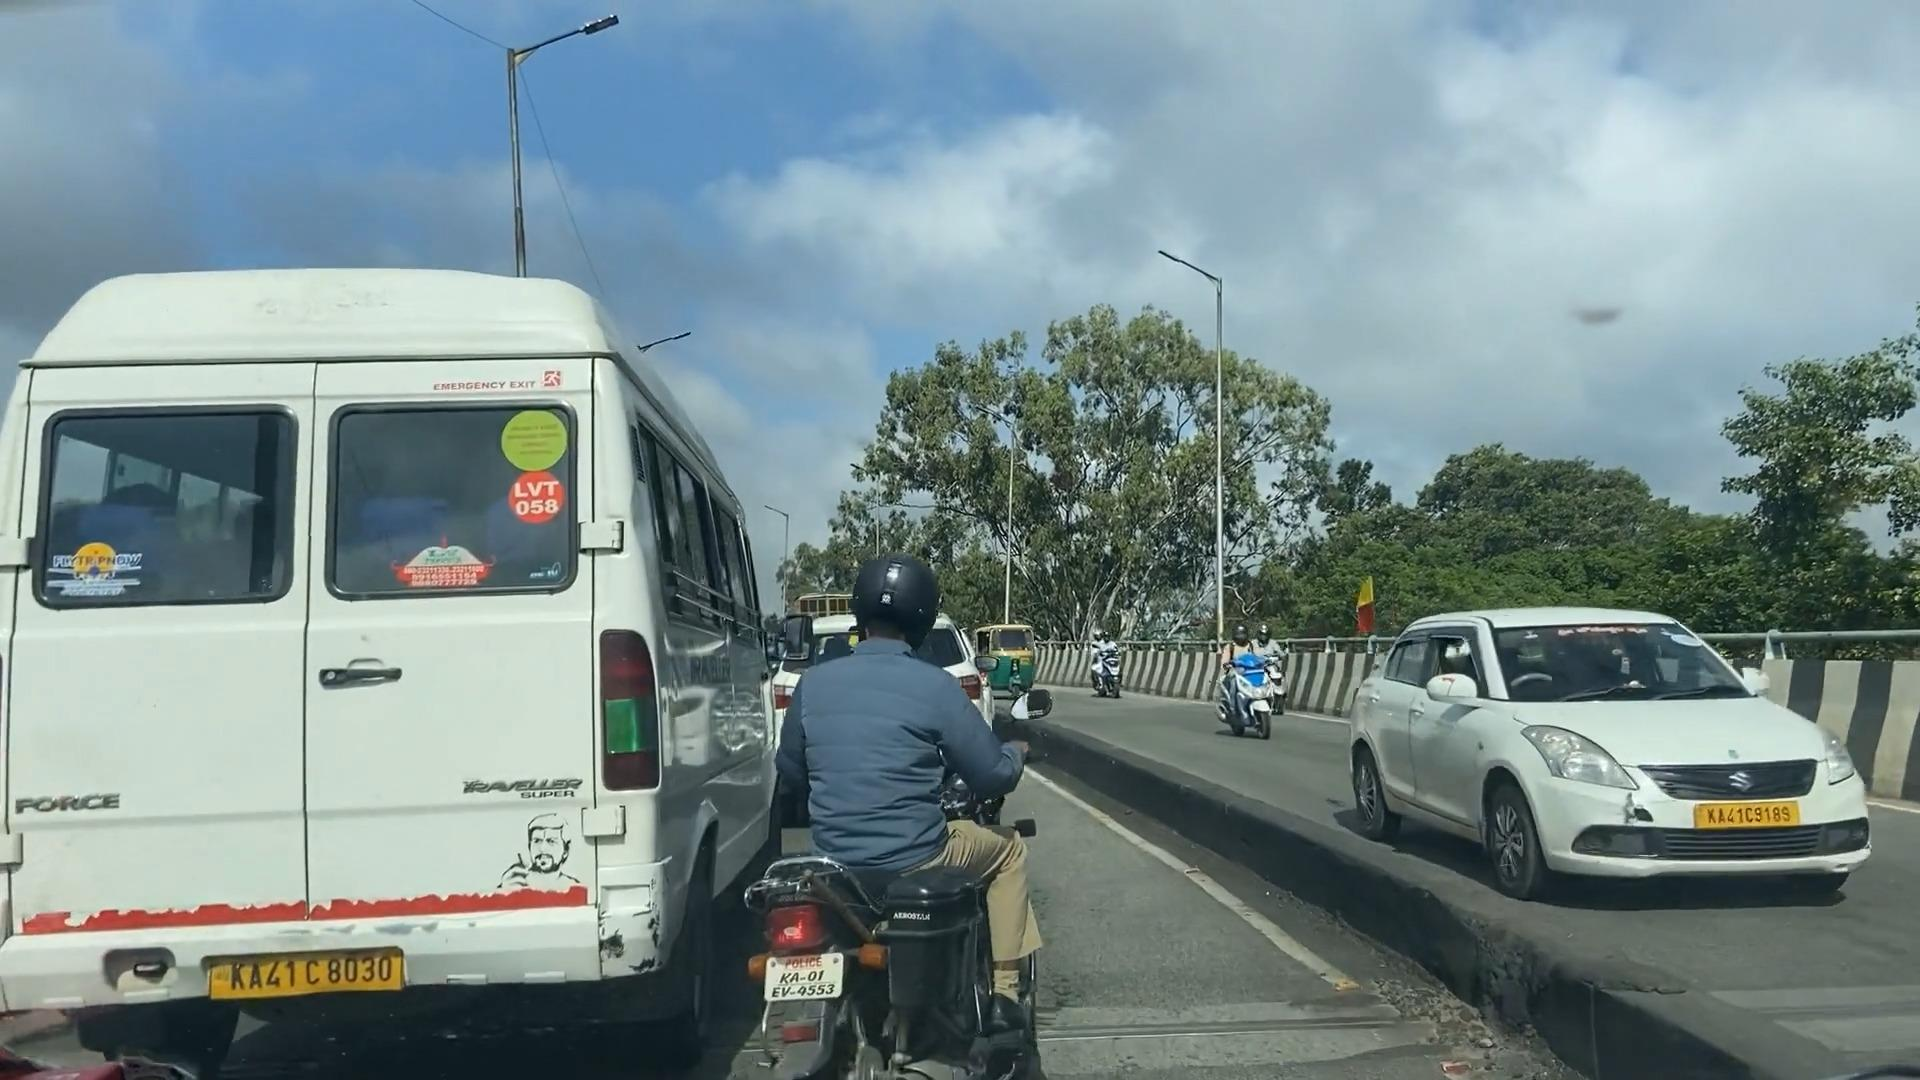HMV: (0, 286, 735, 978)
LMV: (742, 562, 1007, 1067)
